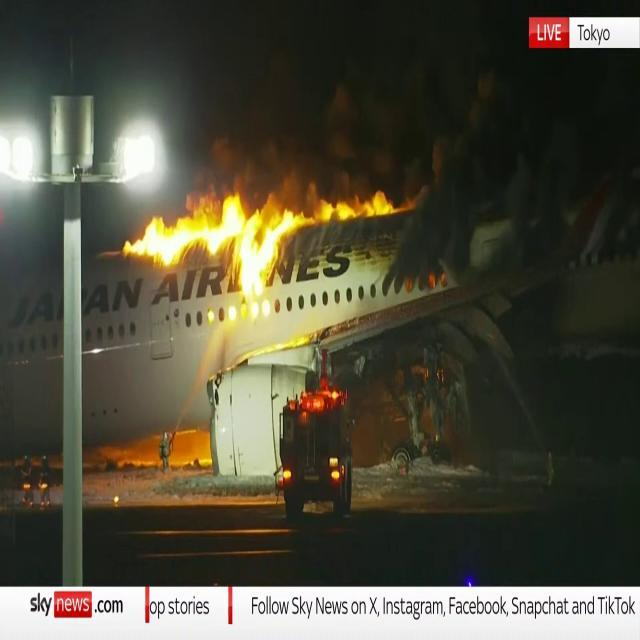Fire: (125, 186, 289, 314), (295, 374, 345, 416)
